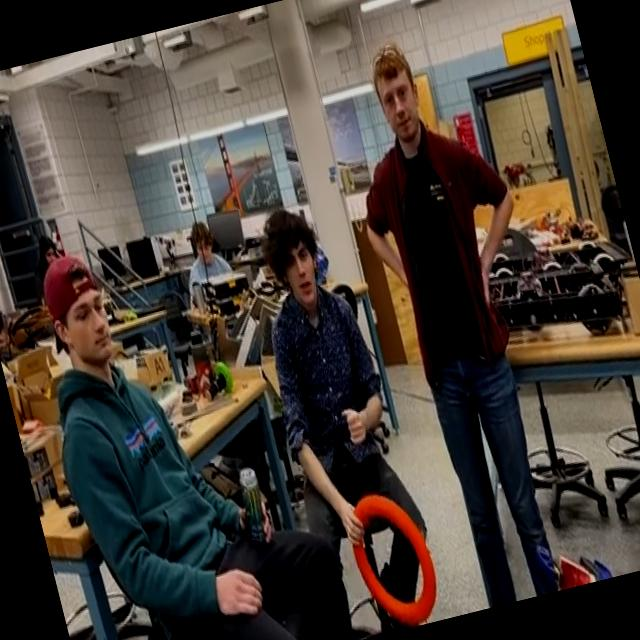note: (338, 478, 448, 635)
